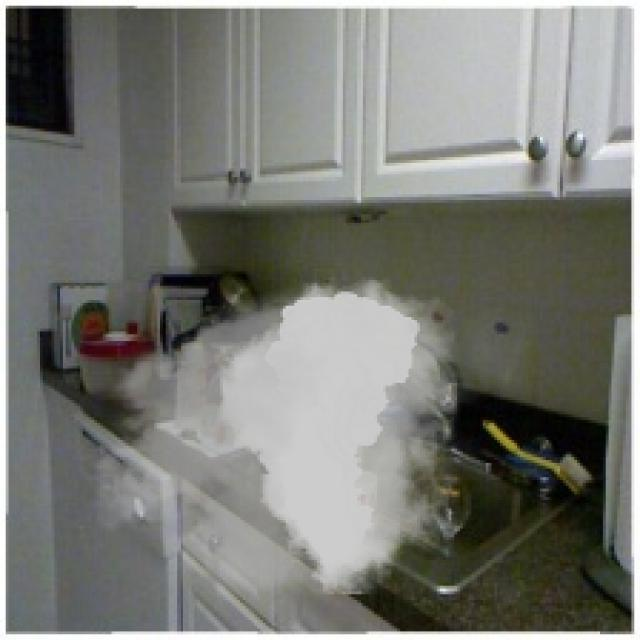Smoke: (71, 268, 488, 618)
